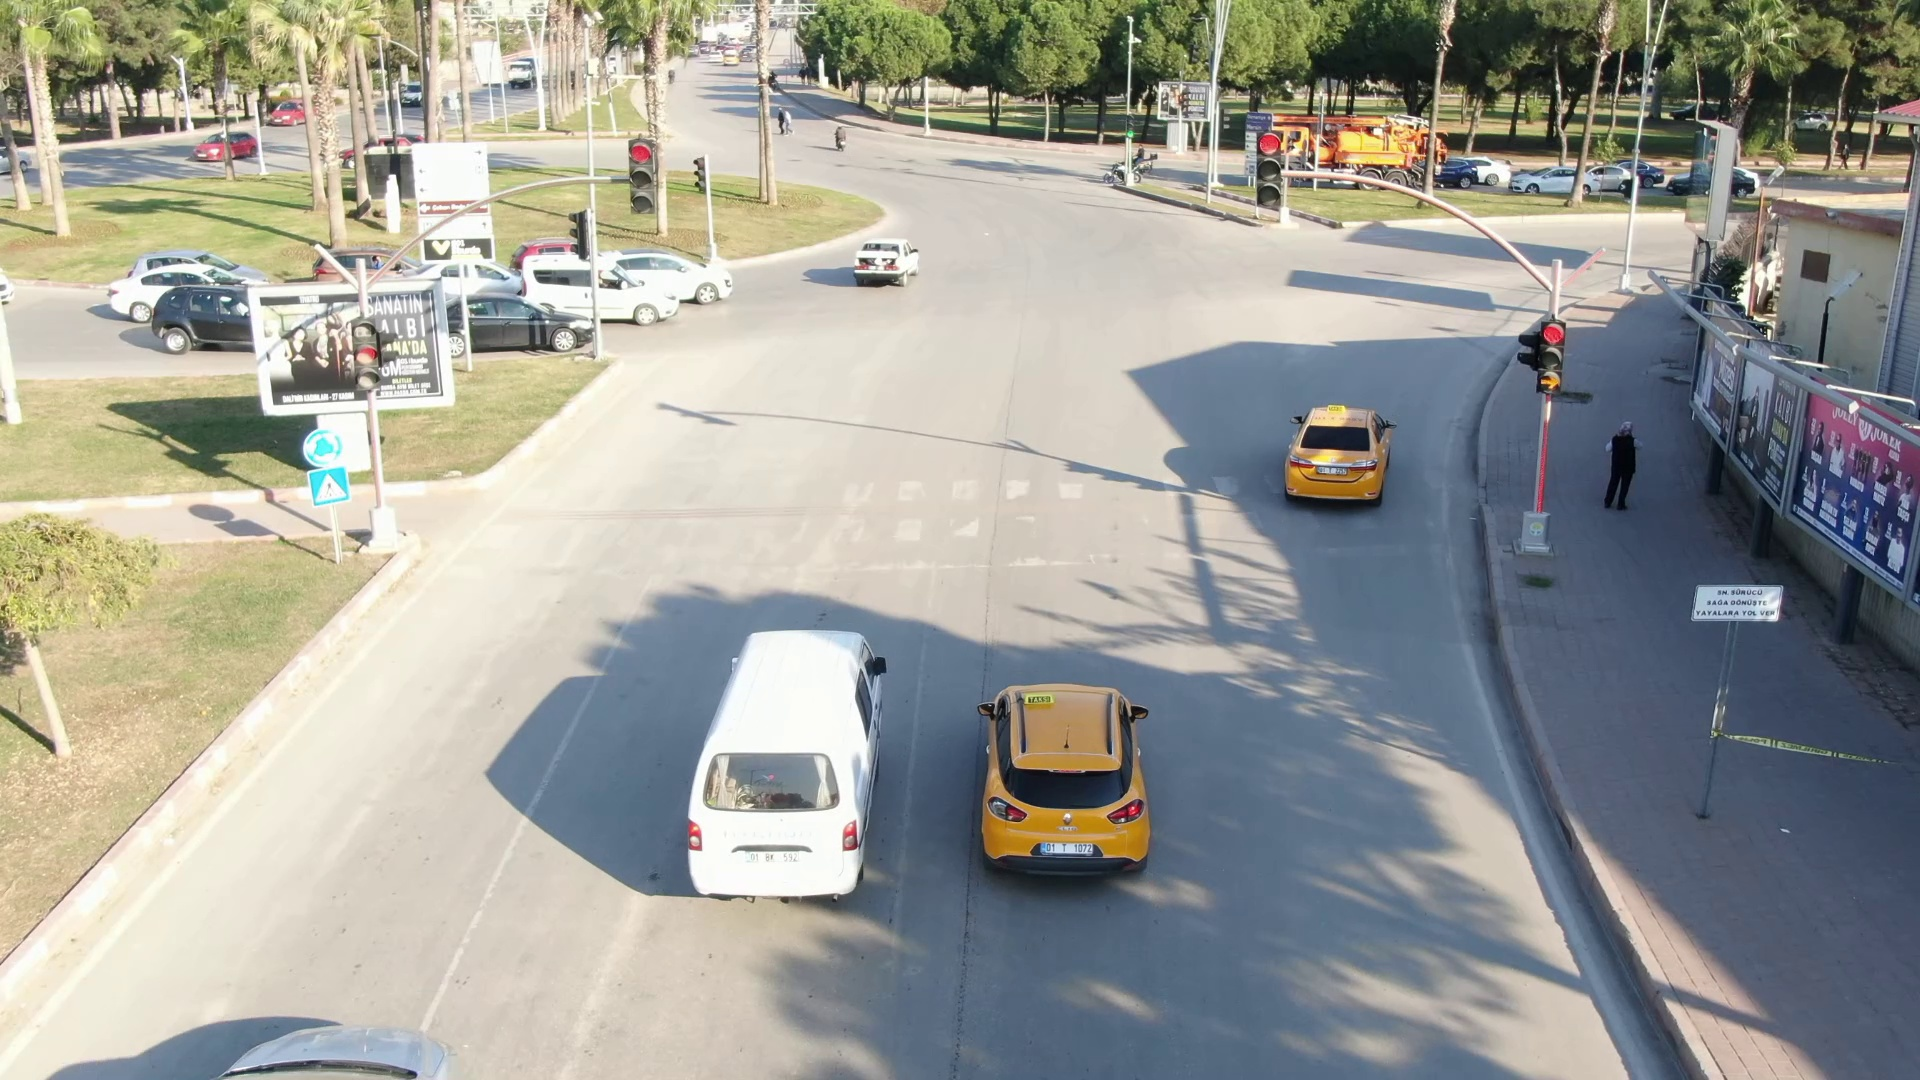car: (674, 614, 896, 910), (972, 668, 1161, 886), (1278, 392, 1406, 508), (514, 247, 676, 321), (447, 288, 588, 365), (623, 247, 737, 308), (831, 229, 921, 288)
person: (1596, 417, 1651, 517)
